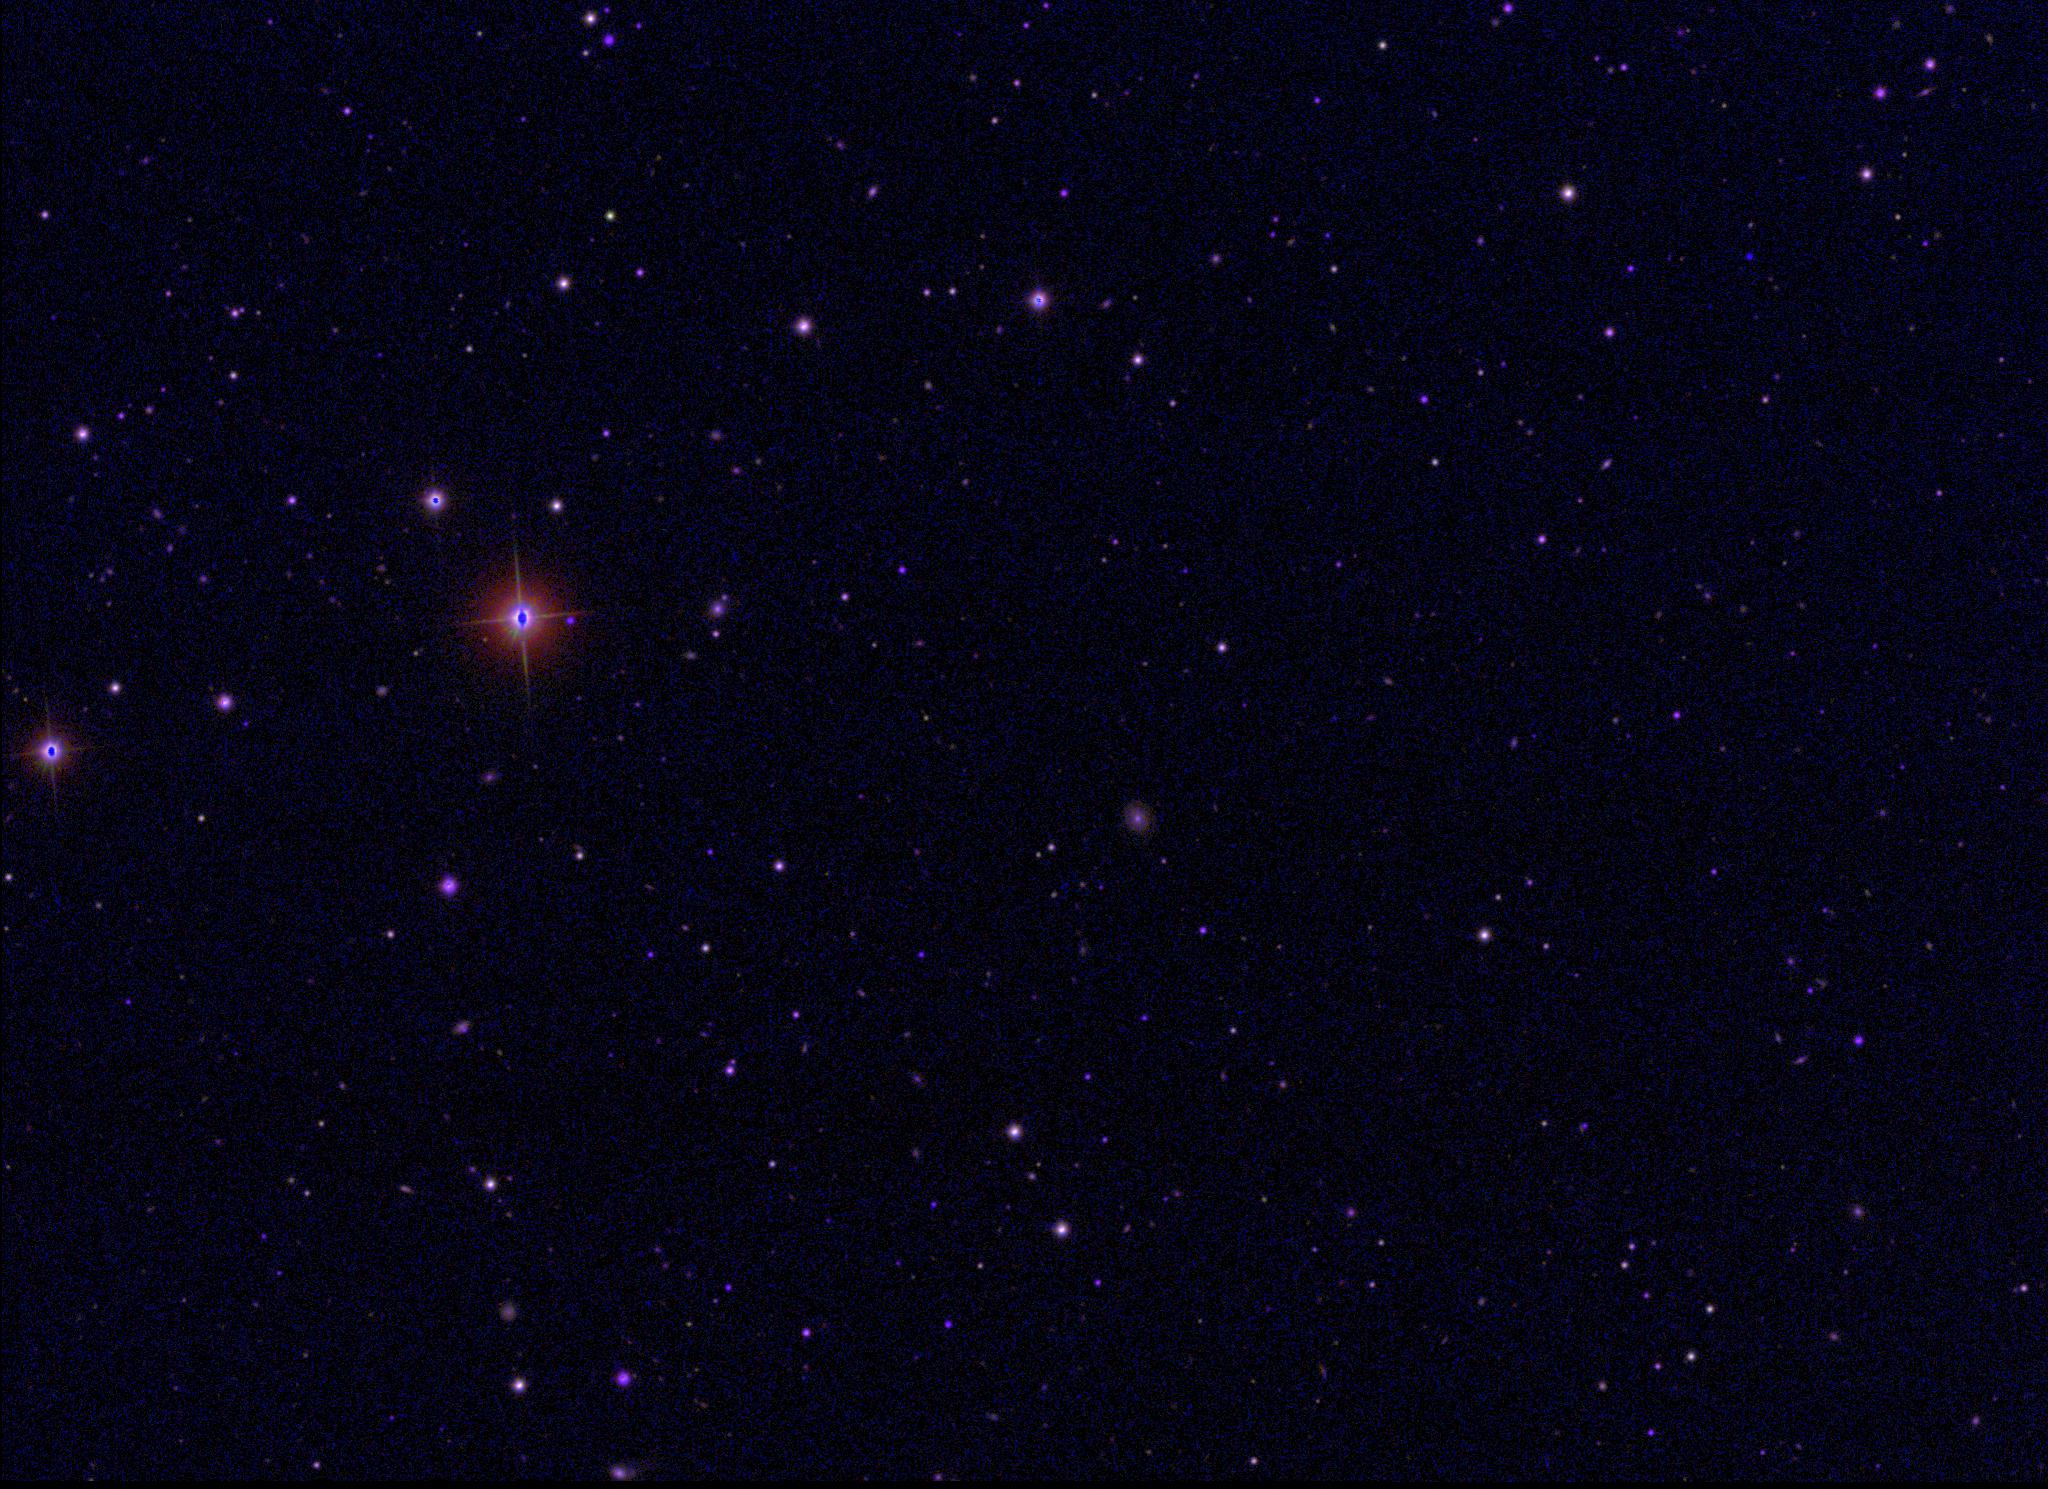L: (1743, 250, 1757, 264)
